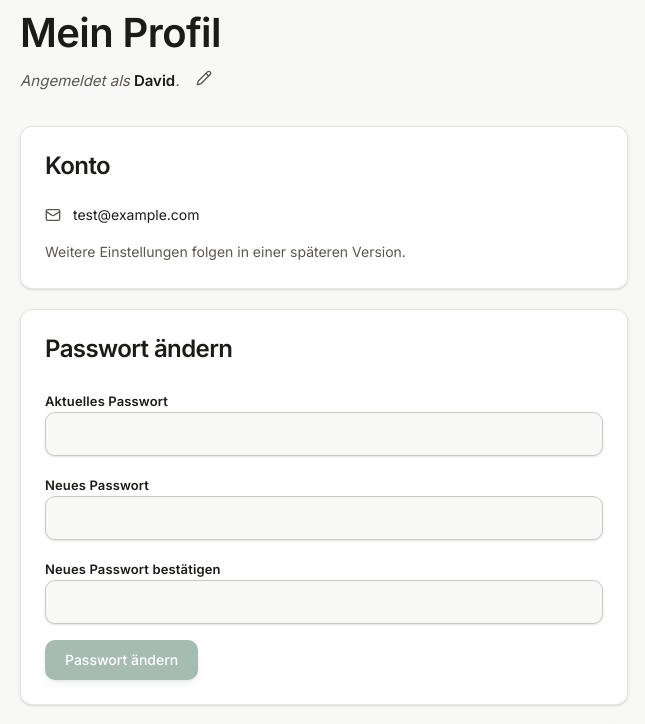
<ProfilePage /> › displayname inline-edit › saves a new name, PATCHes with the trimmed value, updates the store and exits edit mode
Step 1. Click the button named "anzeigenamen bearbeiten" → (204, 78), box [188,62,220,94]
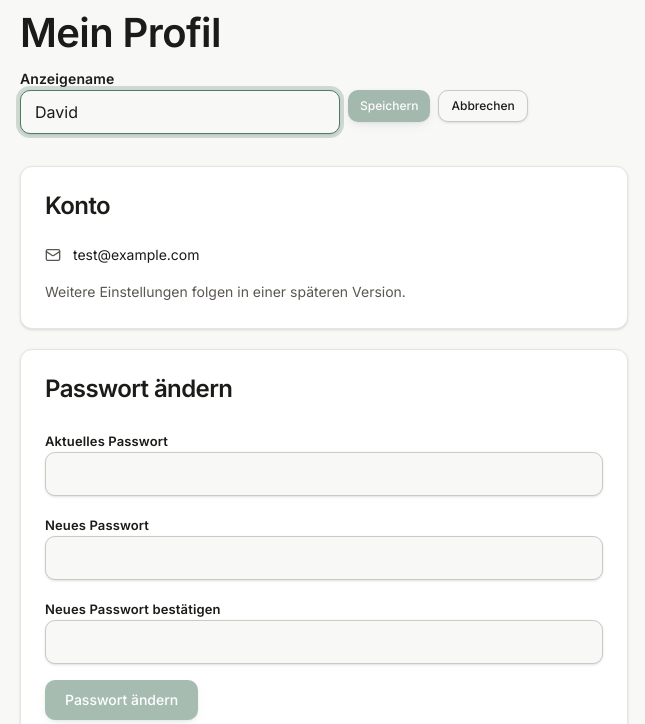
Step 2. Replace the text in the field labelled "Anzeigename" with "  Dave  " → (180, 112), box [20,90,340,134]
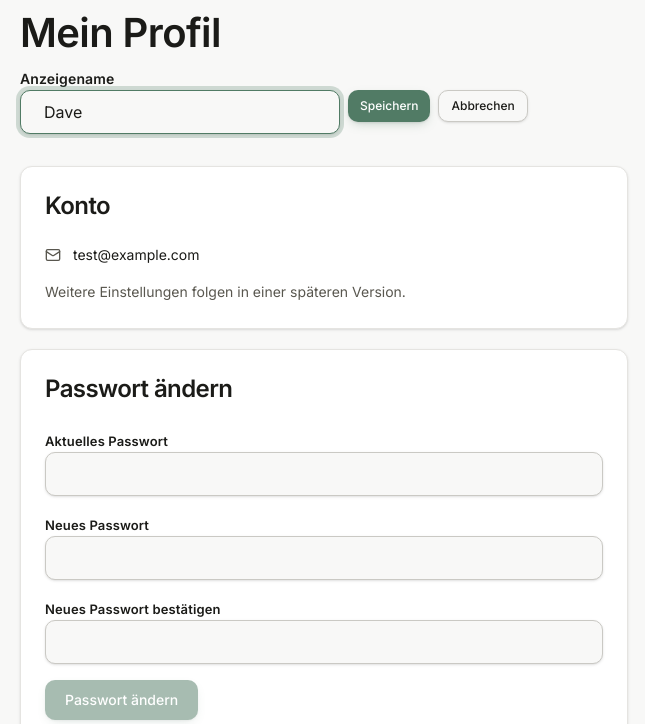
Step 3. Click the button "Speichern" → (389, 106), box [348,90,430,122]
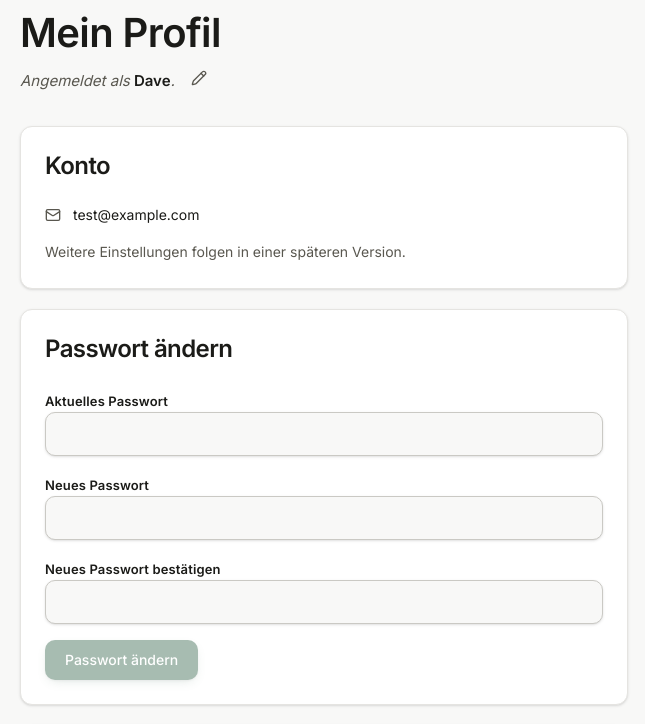
Expected: the text "Dave" is shown, [134,71,170,90]
Expected: the label "Anzeigename" is gone
